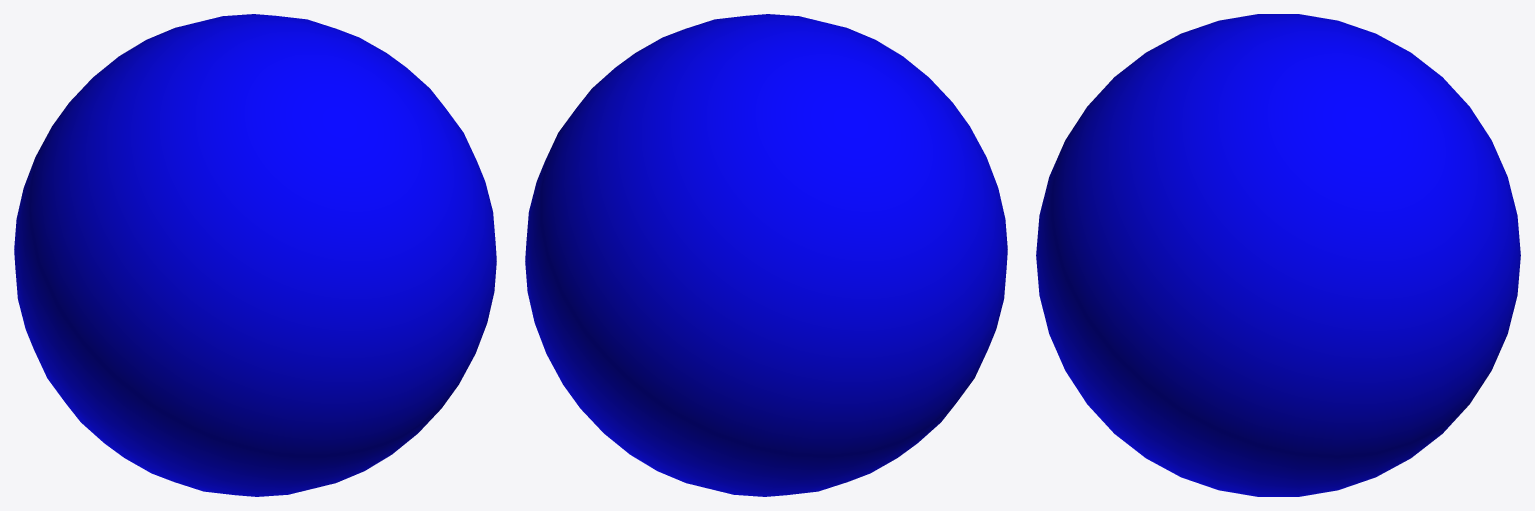
Rendered from 100-ball.glb.
3 renders of one model, left to right at view 1: azimuth 30°, elevation 25°; view 2: azimuth 150°, elevation 25°; view 3: azimuth 270°, elevation 25°, orthographic.
Visible parts, largest first — view 1: 100-ball.obj; view 2: 100-ball.obj; view 3: 100-ball.obj.
Boxes of the visible parts, x1,y1,x2,y2 form: 100-ball.obj: (14,14,496,496); 100-ball.obj: (525,14,1007,496); 100-ball.obj: (1036,14,1520,496).
Size of the model in its own units: 0.0997 by 0.0993 by 0.1.
